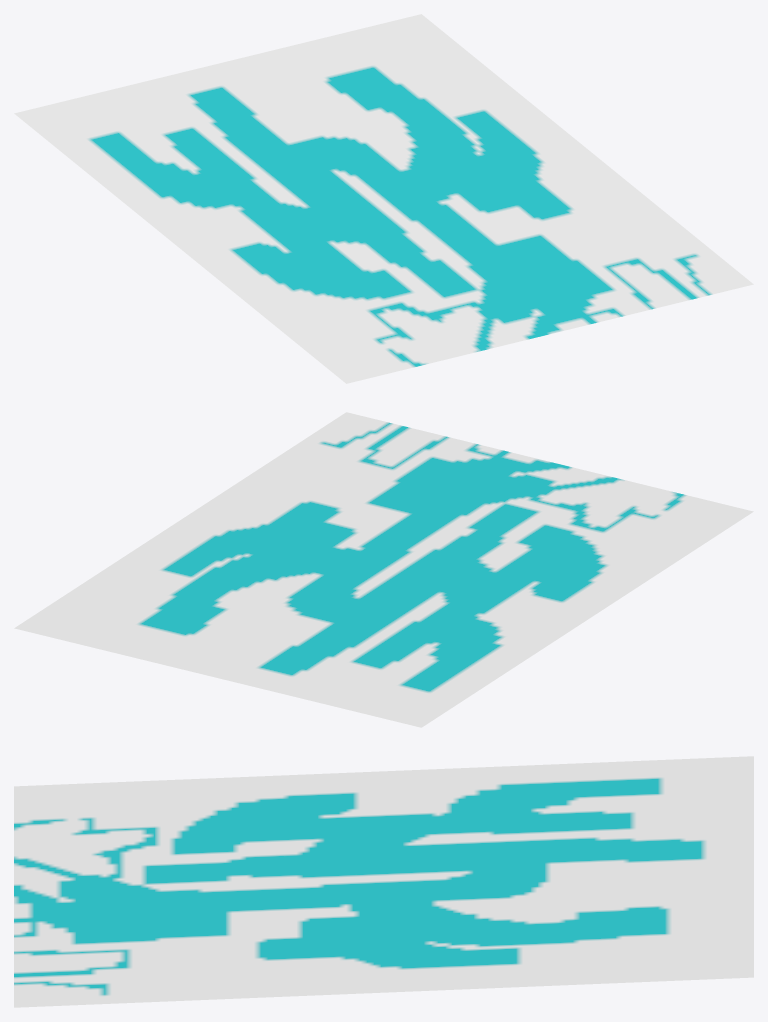
Rendered from glowingletter6.fbx.
The picture shows the model from 3 angles, top to bottom: view 1: azimuth 30°, elevation 25°; view 2: azimuth 150°, elevation 25°; view 3: azimuth 270°, elevation 25°; orthographic projection. The views are drawn at different scales.
Parts seen in each view (by area): view 1: pPlane15; view 2: pPlane15; view 3: pPlane15.
Part boxes in pixels (x1,y1,x2,y2): pPlane15: [14, 14, 753, 383]; pPlane15: [14, 412, 753, 727]; pPlane15: [14, 756, 753, 1007].
Bounding box in the file's own units: 9.9 × 0.6291 × 13.99.
